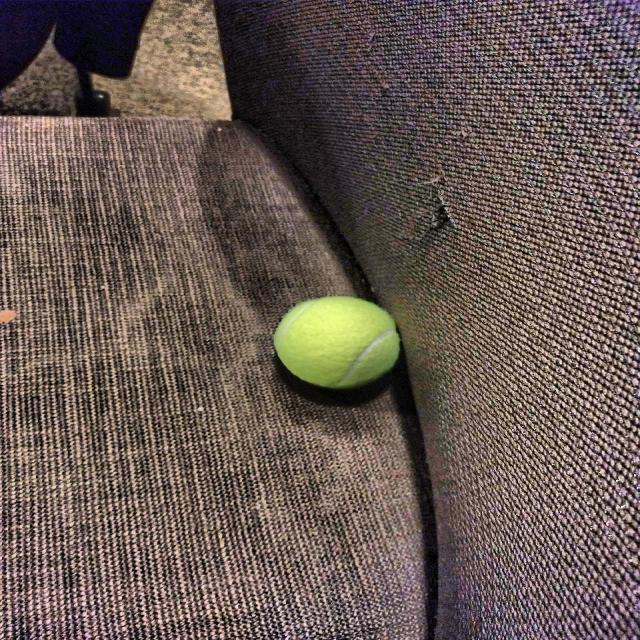tennis-ball: (274, 294, 409, 396)
